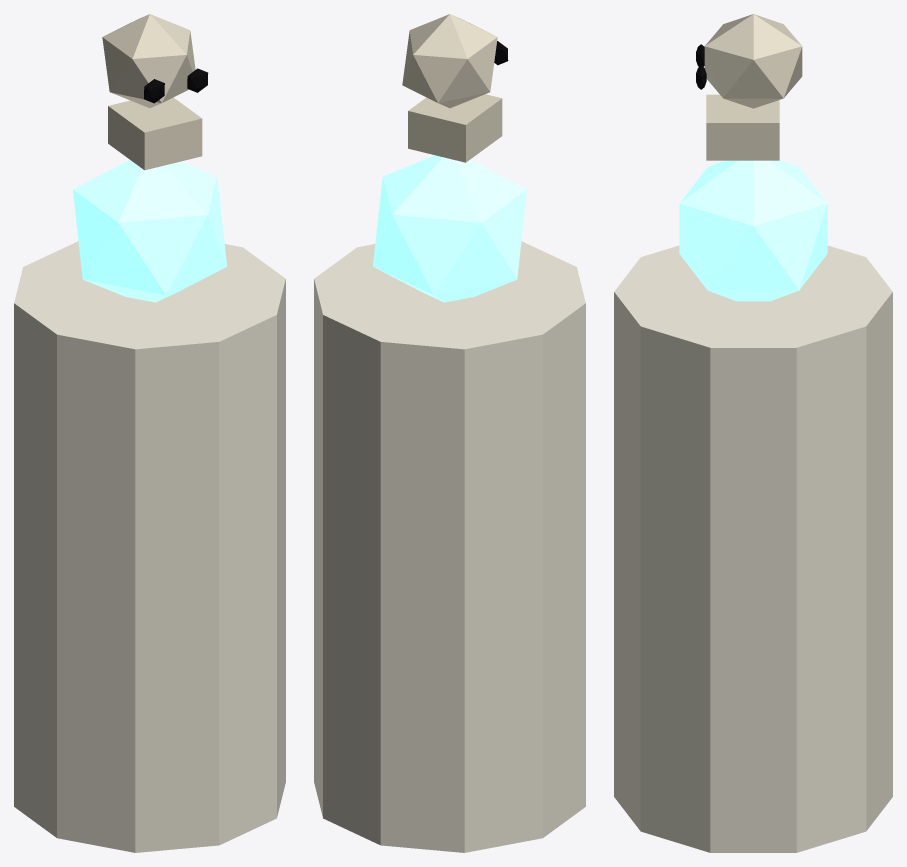
File: Item_OR_Tonic_21.glb
3 renders of one model, left to right at view 1: azimuth 30°, elevation 25°; view 2: azimuth 150°, elevation 25°; view 3: azimuth 270°, elevation 25°, orthographic.
Visible parts, largest first — view 1: Item_OR_Tonic_21; view 2: Item_OR_Tonic_21; view 3: Item_OR_Tonic_21.
Part boxes in pixels (x1,y1,x2,y2): Item_OR_Tonic_21: (14,14,285,852); Item_OR_Tonic_21: (314,14,585,852); Item_OR_Tonic_21: (614,14,892,852).
Bounding box in the file's own units: 0.0761 × 0.248 × 0.08.
